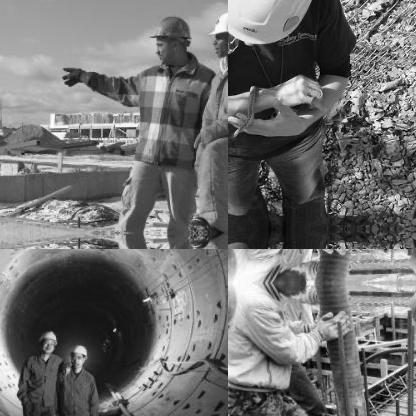Helmet: (228, 0, 325, 43), (144, 8, 196, 66), (207, 4, 227, 59), (403, 283, 415, 341), (66, 342, 86, 367), (37, 330, 55, 354)
